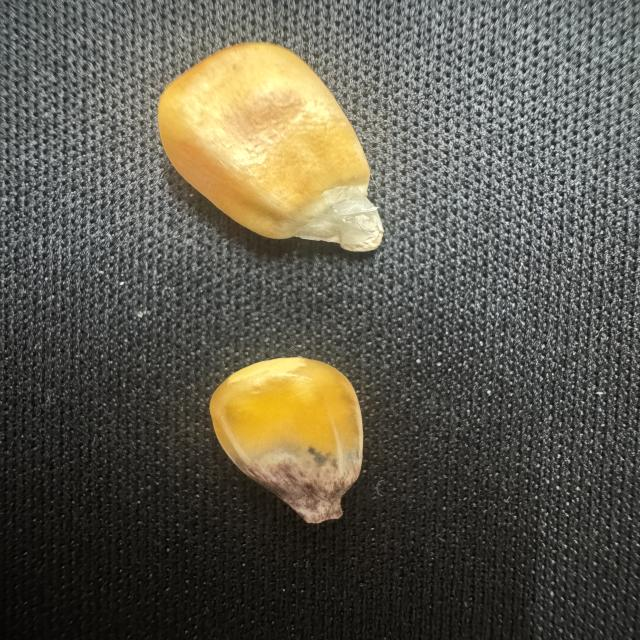Bad-Seed: (205, 352, 372, 530)
Good-Seed: (153, 37, 390, 257)
